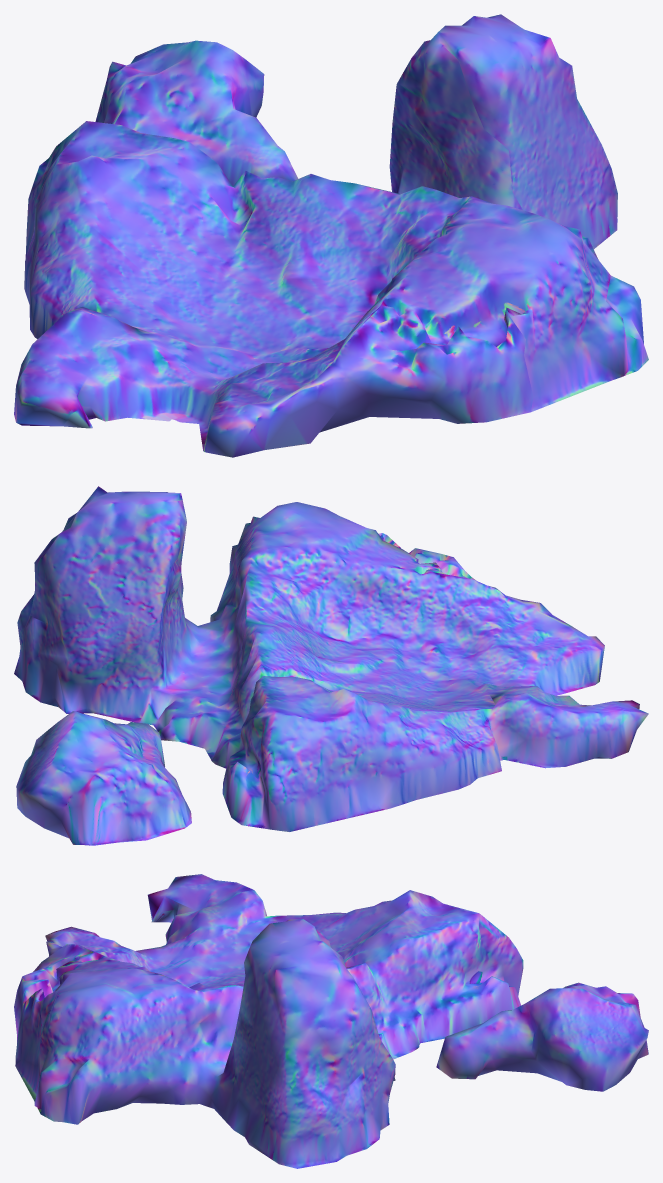
The model's file is RockFormation005 Moss Variant.fbx.
The picture shows the model from 3 angles, top to bottom: view 1: azimuth 30°, elevation 25°; view 2: azimuth 150°, elevation 25°; view 3: azimuth 270°, elevation 25°; orthographic projection. The views are drawn at different scales.
Visible parts, largest first — view 1: RF05_LOD0; view 2: RF05_LOD0; view 3: RF05_LOD0.
Part boxes in pixels (x1,y1,x2,y2): RF05_LOD0: [14, 14, 648, 457]; RF05_LOD0: [14, 486, 648, 845]; RF05_LOD0: [14, 874, 648, 1168].
Size of the model in its own units: 750 by 244 by 770.
